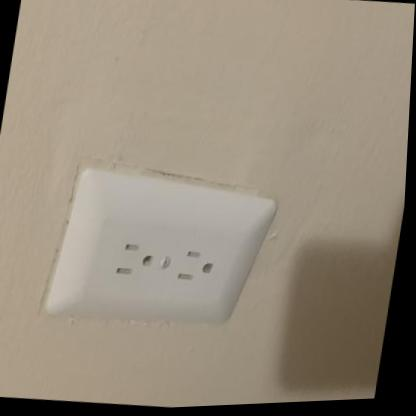OUTLET: (43, 157, 286, 338)
